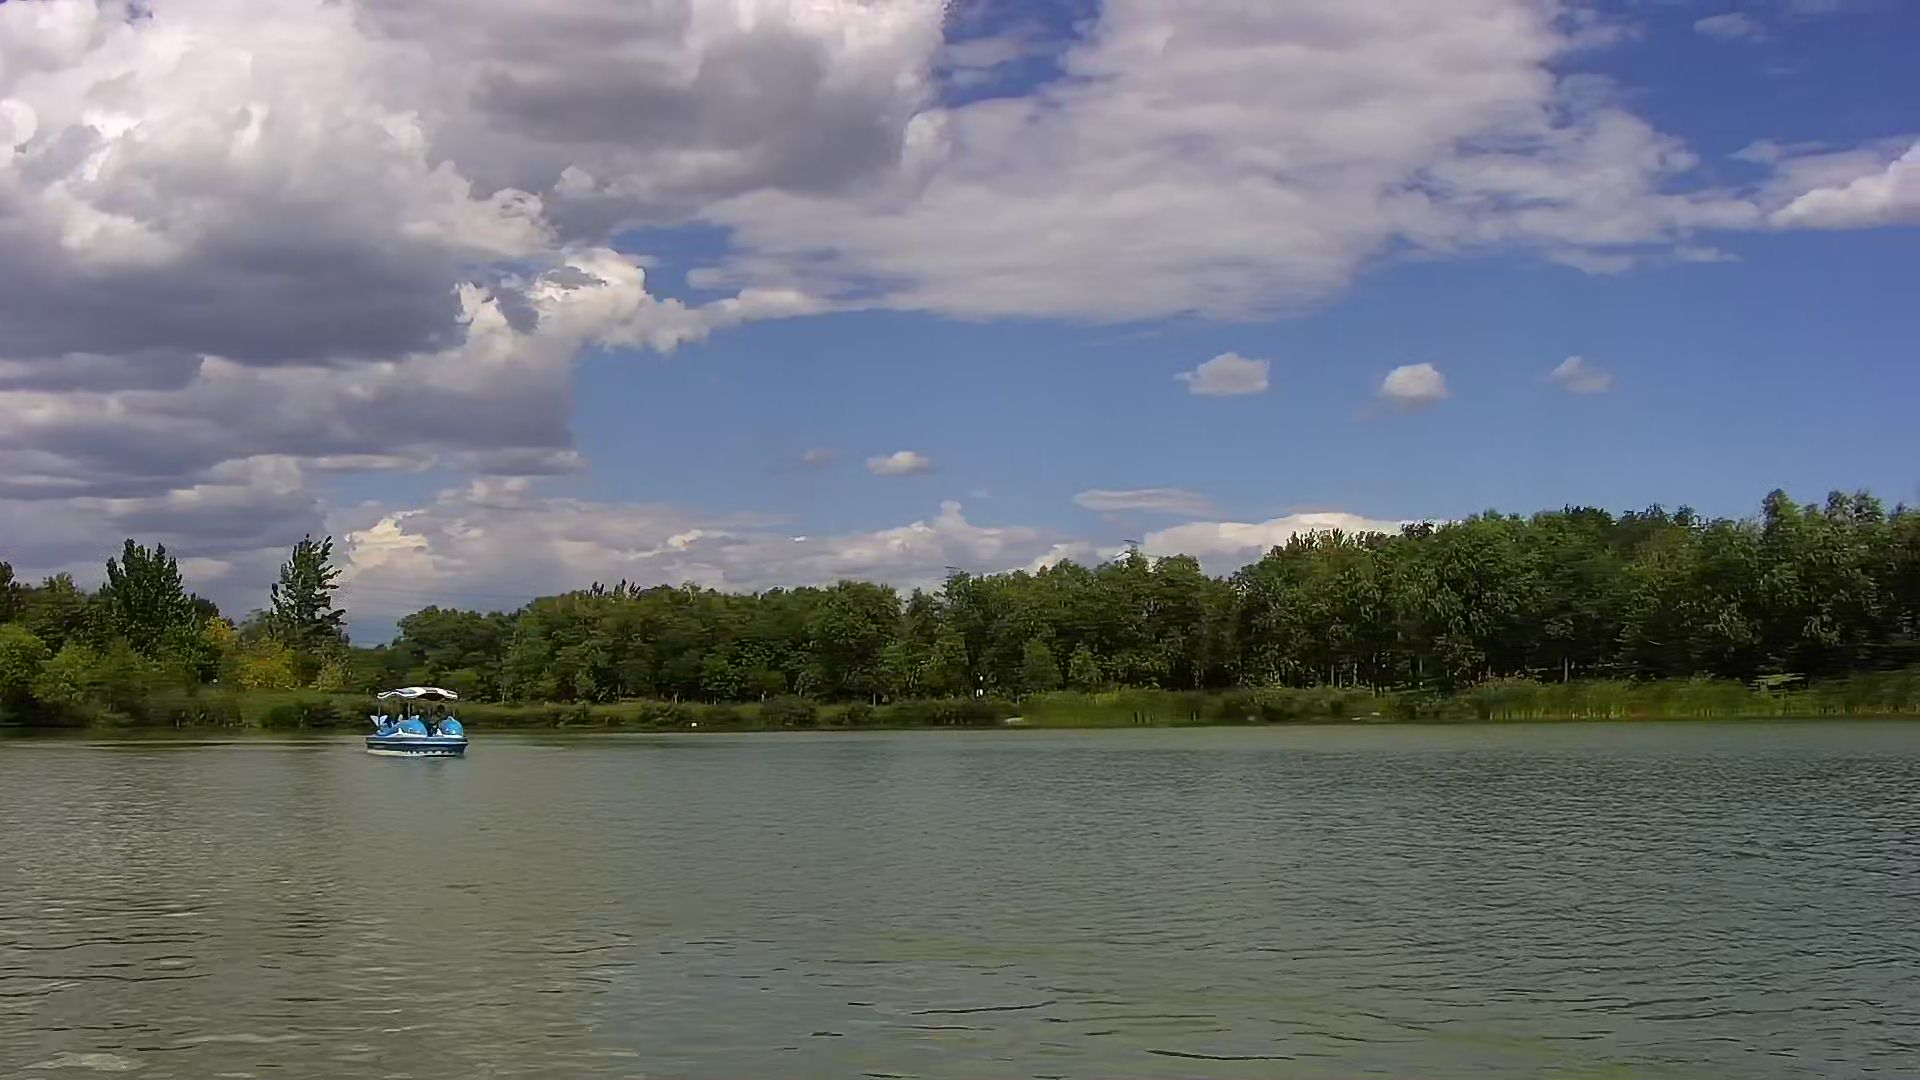boat: (365, 680, 465, 767)
